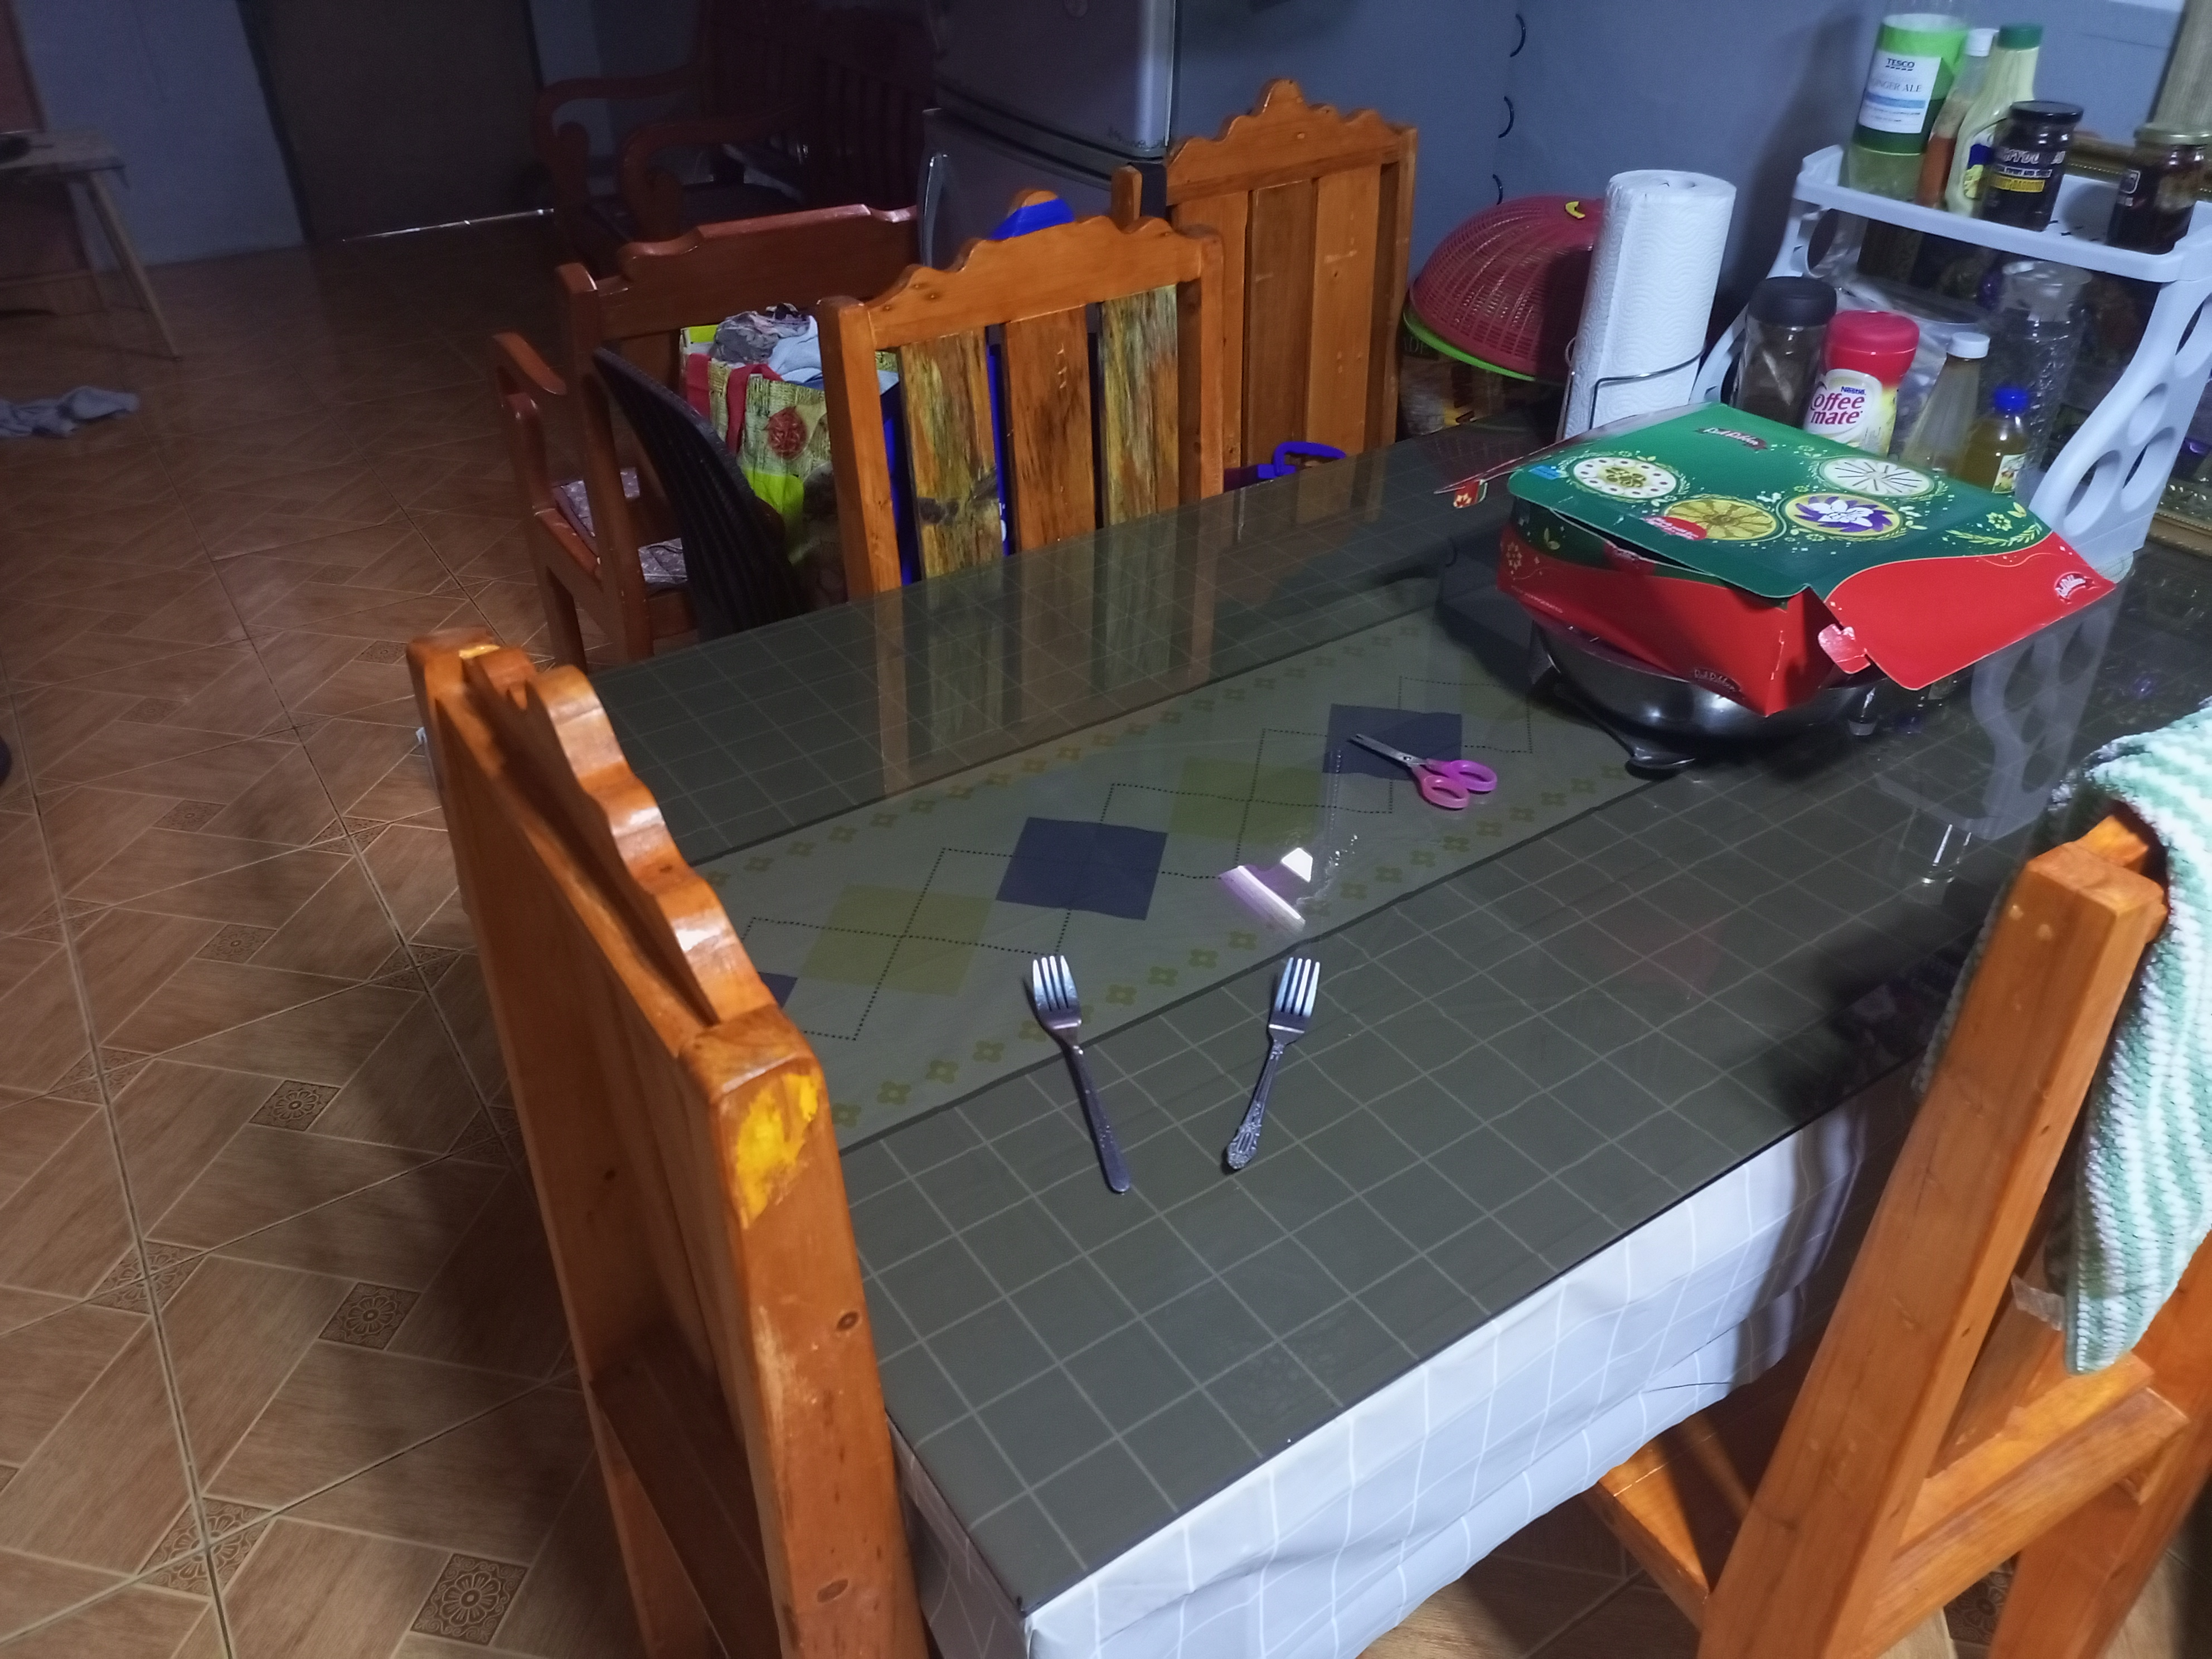fork: (1026, 950, 1141, 1192), (1224, 955, 1322, 1173)
